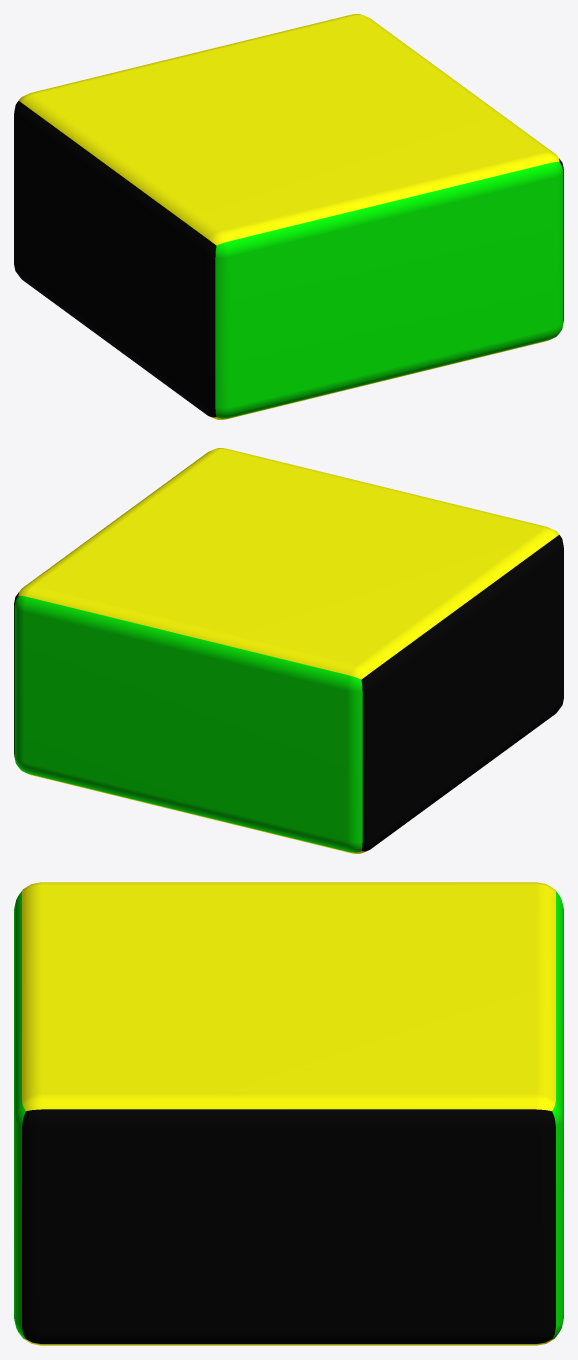
The picture shows the model from 3 angles, top to bottom: view 1: azimuth 30°, elevation 25°; view 2: azimuth 150°, elevation 25°; view 3: azimuth 270°, elevation 25°; orthographic projection. The views are drawn at different scales.
Visible parts, largest first — view 1: pCube1; view 2: pCube1; view 3: pCube1.
Part boxes in pixels (box(x1,y1,x2,y2)): pCube1: box(14, 14, 563, 419); pCube1: box(14, 448, 563, 853); pCube1: box(14, 882, 563, 1345).
Bounding box in the file's own units: 2 × 1 × 2.
